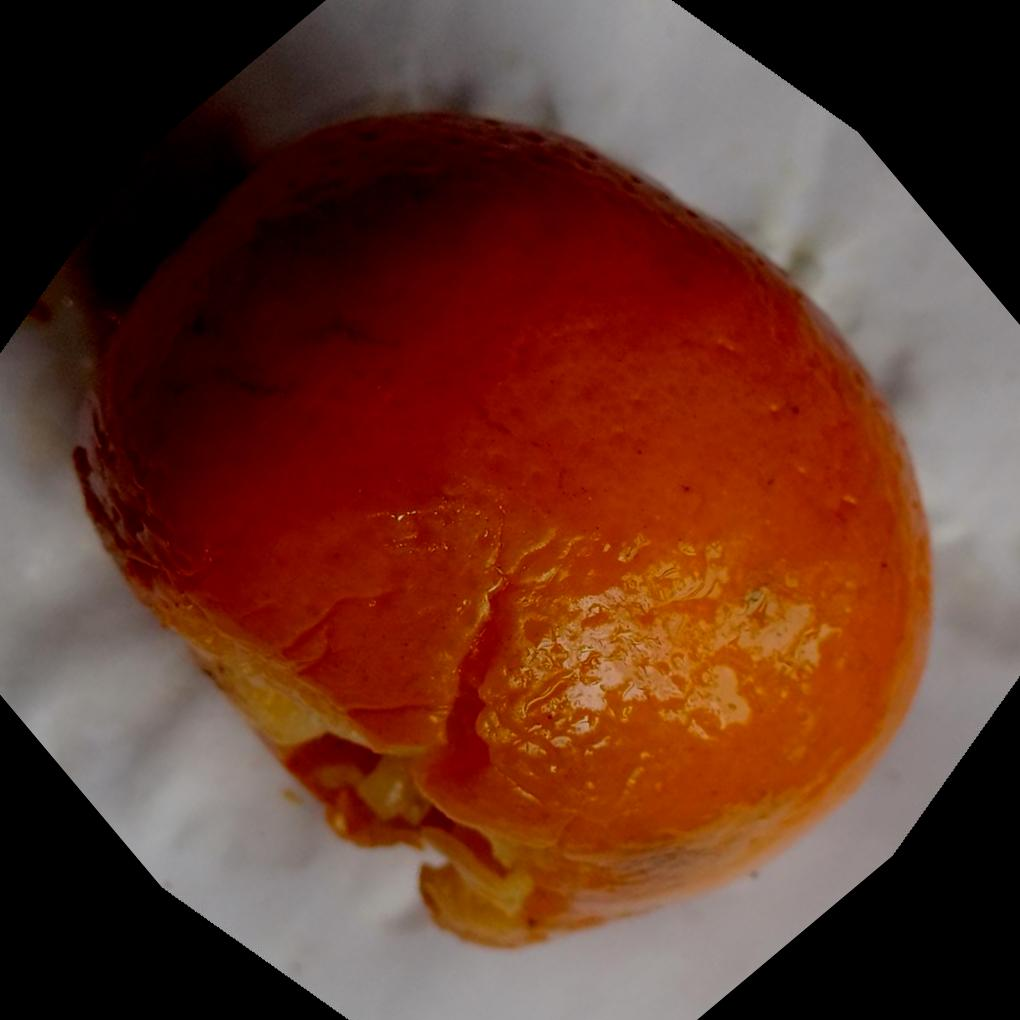FreshOrange: (66, 108, 933, 955)
